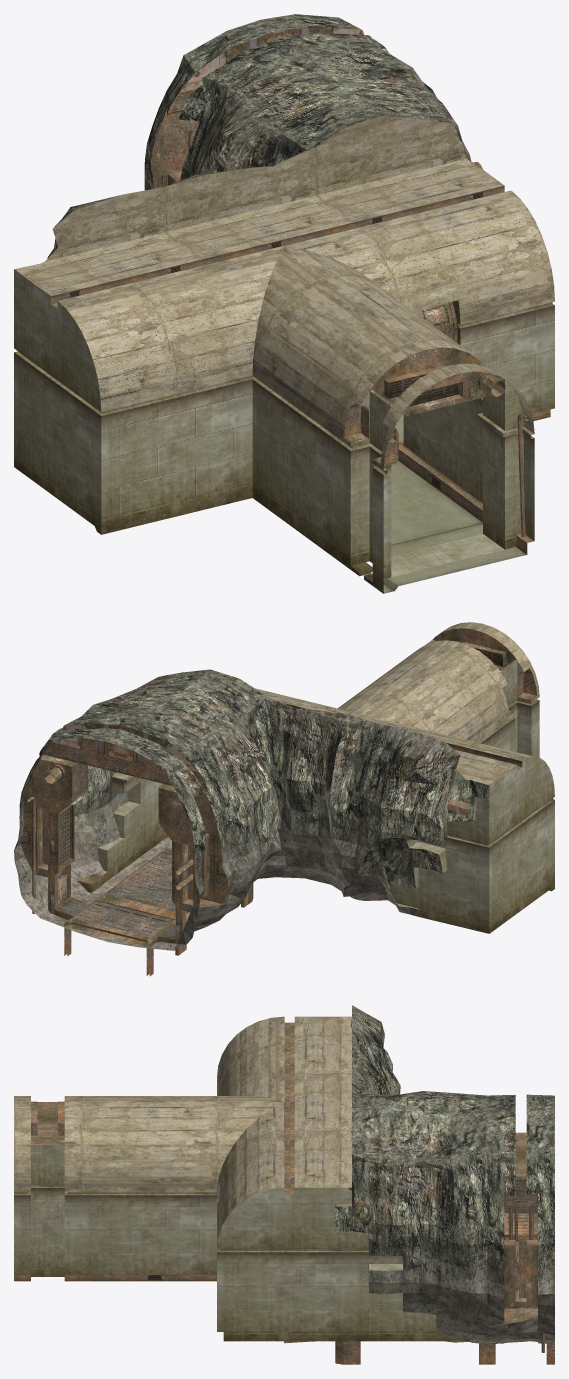
File: poi_all_bunker_mad_bio_s01_r28_transition6_mesh_r28.fbx
3 views of the same model, one above another, from view 1: azimuth 30°, elevation 25°; view 2: azimuth 150°, elevation 25°; view 3: azimuth 270°, elevation 25° (orthographic). The views are drawn at different scales.
Parts seen in each view (by area): view 1: mesh_node; view 2: mesh_node; view 3: mesh_node.
Boxes of the visible parts, <box> form: mesh_node: <box>14,14,554,593</box>; mesh_node: <box>14,622,554,976</box>; mesh_node: <box>14,1005,554,1364</box>.
Size of the model in its own units: 13.72 by 7.64 by 16.
